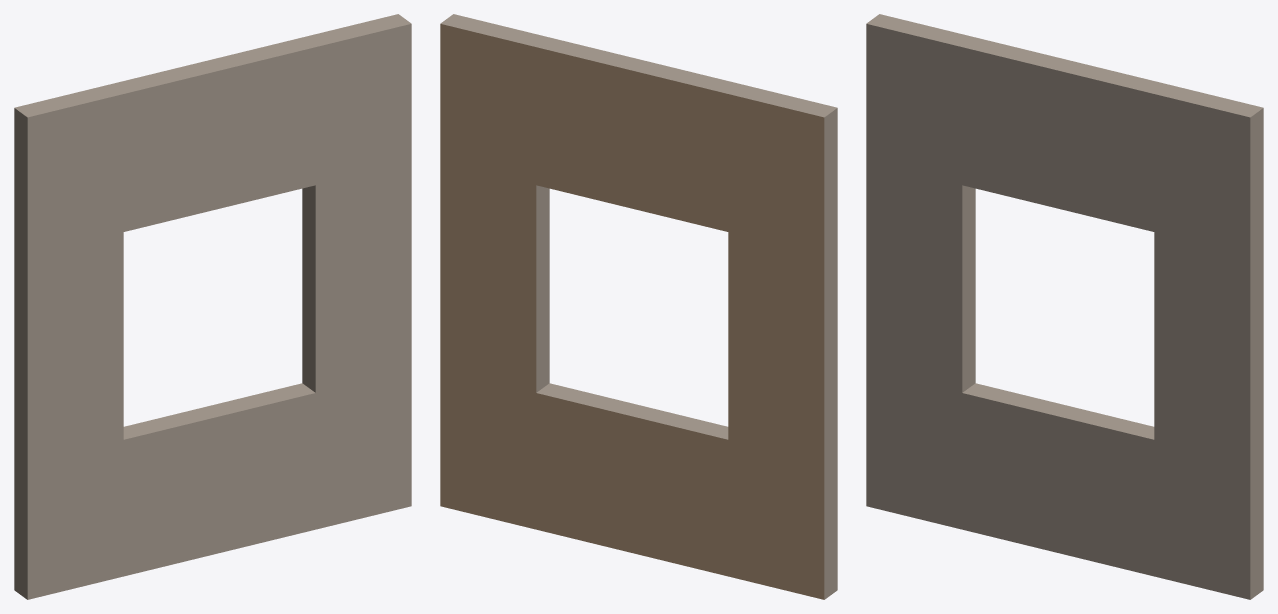
The model's file is Wall2_C4_04.fbx.
3 renders of one model, left to right at view 1: azimuth 30°, elevation 25°; view 2: azimuth 150°, elevation 25°; view 3: azimuth 330°, elevation 25°, orthographic.
Visible parts, largest first — view 1: Wall2_C4_04; view 2: Wall2_C4_04; view 3: Wall2_C4_04.
Boxes of the visible parts, box(x1,y1,x2,y2) form: Wall2_C4_04: box(14, 14, 411, 599); Wall2_C4_04: box(440, 14, 837, 599); Wall2_C4_04: box(866, 14, 1263, 599).
Size of the model in its own units: 250 by 300 by 15.
